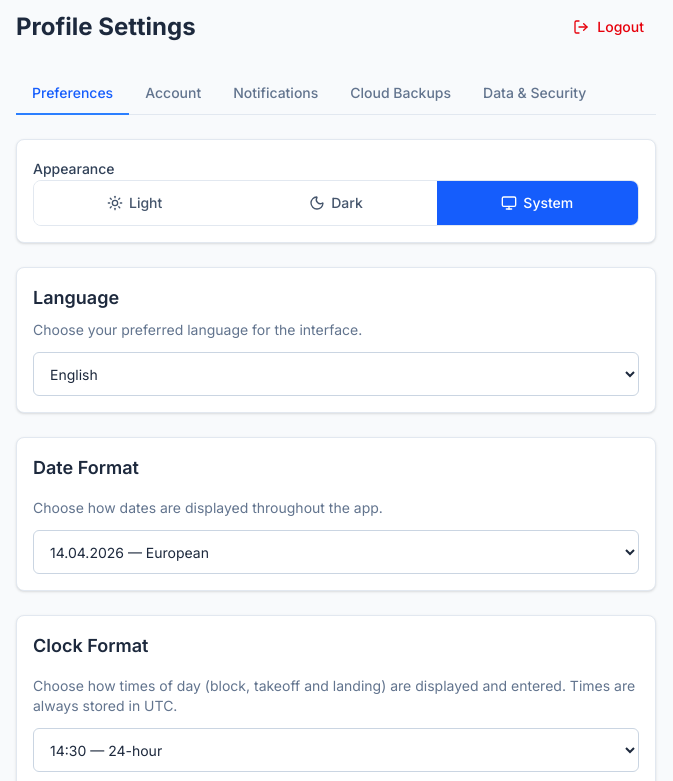
Test: ProfilePage › populates profile form with current user data
The image size is (673, 781).
Click the button "Account". click: (173, 94)
box: 129,73 -> 217,115
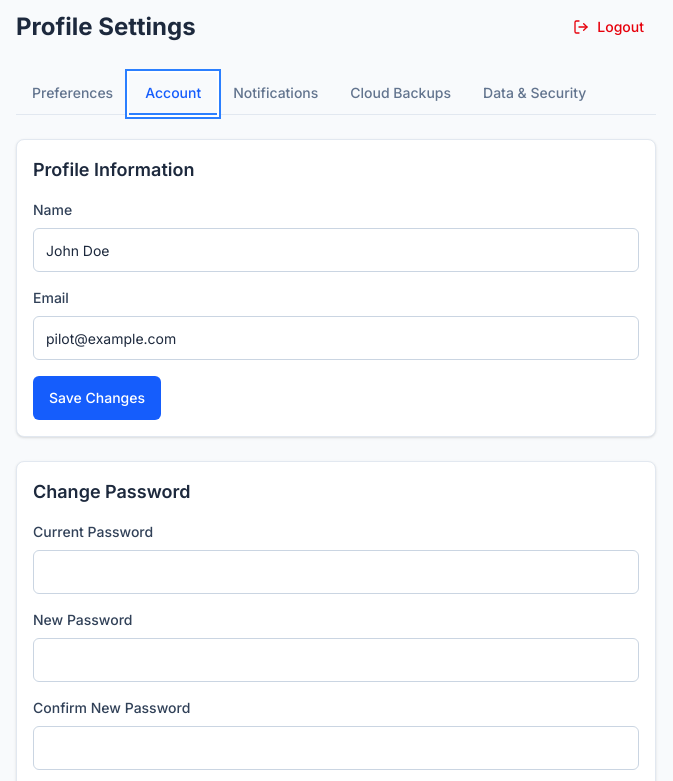
Result: the field labelled "Name" holds "John Doe" at 33,228 -> 639,272
Result: the field labelled "Email" holds "pilot@example.com" at 33,316 -> 639,360
